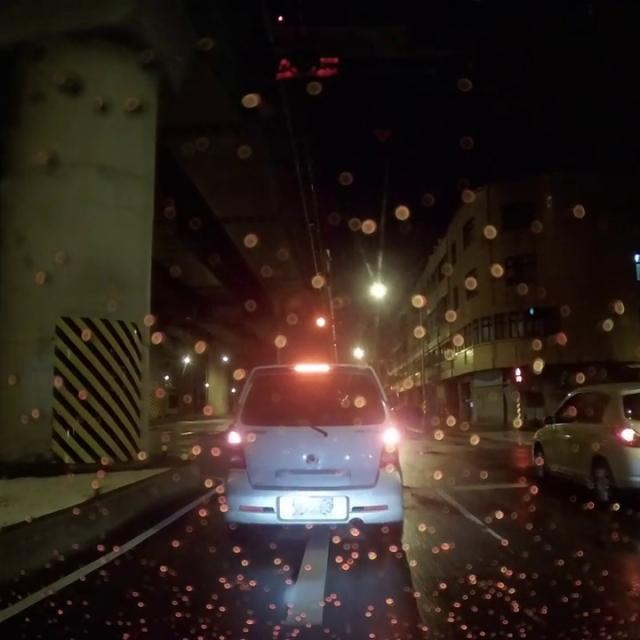Car: (221, 363, 401, 538), (527, 382, 639, 506)
